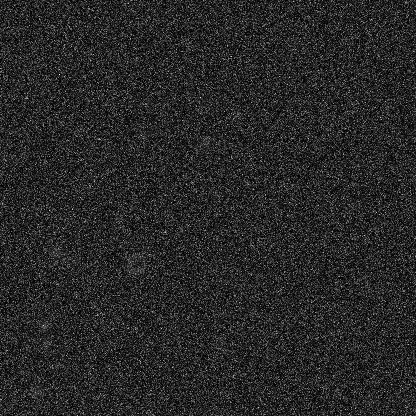Ring: (124, 251, 148, 275), (27, 71, 51, 95), (348, 272, 372, 296)
Spot: (136, 126, 152, 142), (197, 134, 213, 150), (340, 200, 356, 216), (35, 337, 51, 353), (48, 245, 64, 261), (351, 156, 367, 172), (214, 341, 230, 357), (30, 383, 46, 399), (64, 253, 80, 269), (106, 327, 122, 343), (214, 273, 230, 289), (238, 175, 254, 191), (363, 392, 379, 408), (227, 108, 243, 124), (35, 316, 51, 332), (56, 43, 72, 59)
